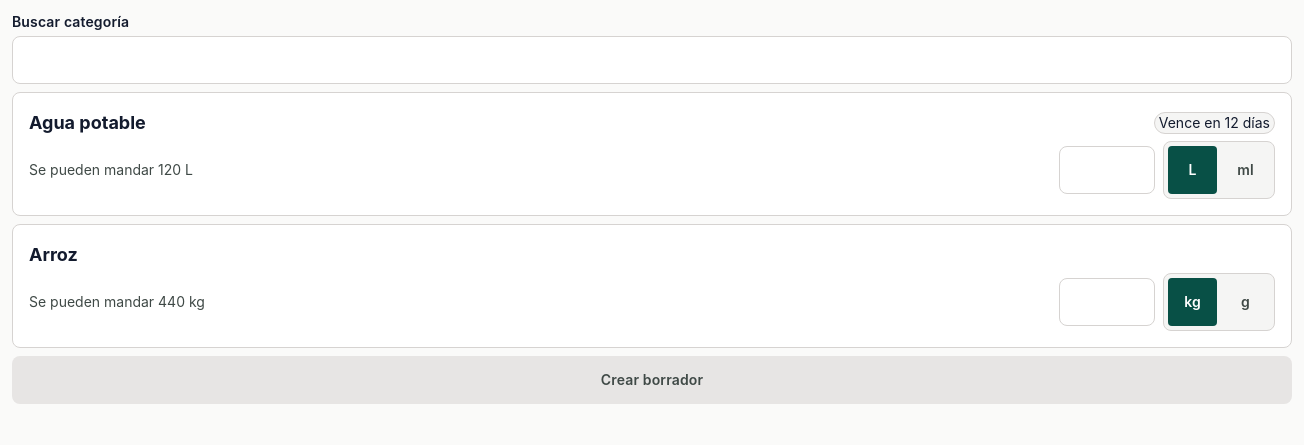
it: «0,5» en g avisa que va sin decimales y no deja guardar
This screenshot has width=1304, height=445.
Type "0.5" into the number field named "Cantidad de Arroz (kg)" in the row of "440 kg" at (1107, 302), box [1059,278,1155,326]
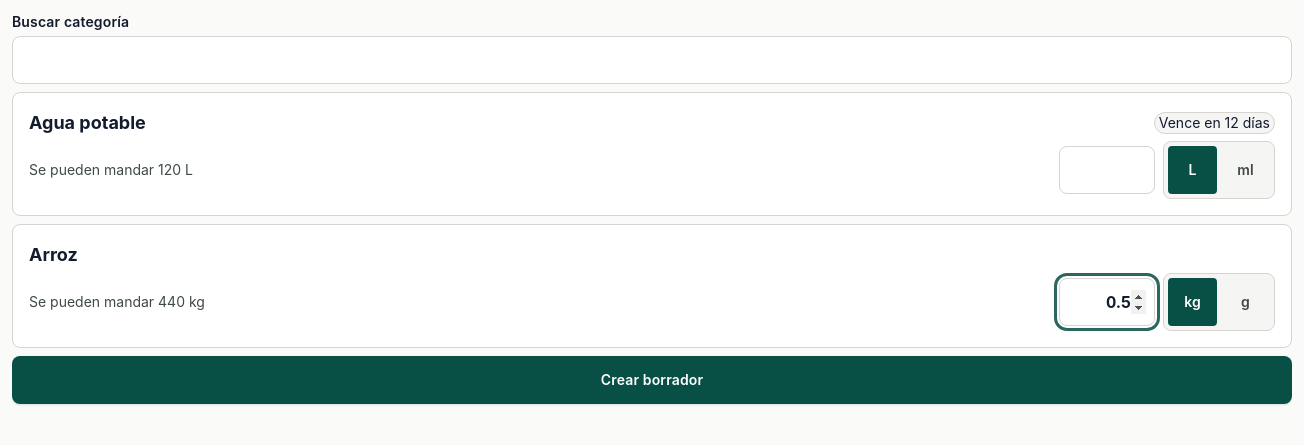
Click the radio button labelled "g" at (1245, 302), box [1241,293,1250,310]
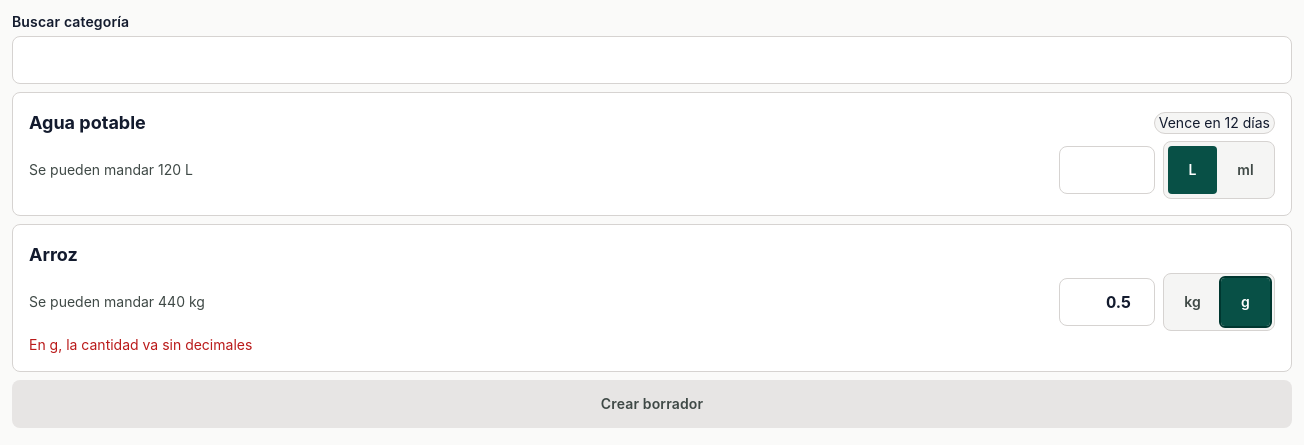
Expected: the text "En g, la cantidad va sin decimales" is shown, [29,336,252,353]
Expected: the button "Crear borrador" is disabled, [12,380,1292,428]
